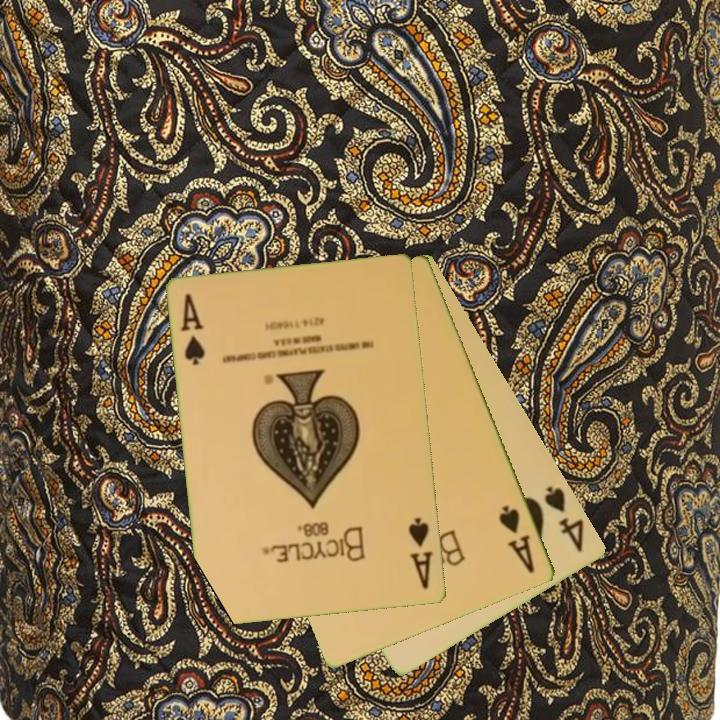4s: (541, 482, 588, 556)
As: (495, 502, 538, 577), (177, 290, 208, 369), (405, 514, 436, 592)
